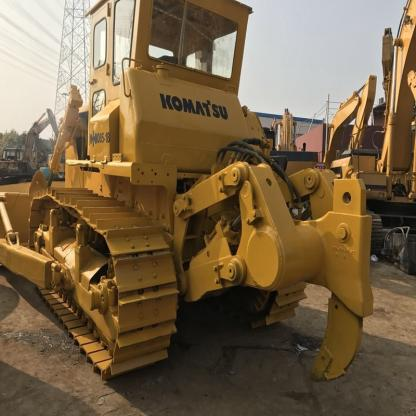bull_dozer/loader/grader: (6, 1, 408, 389)
